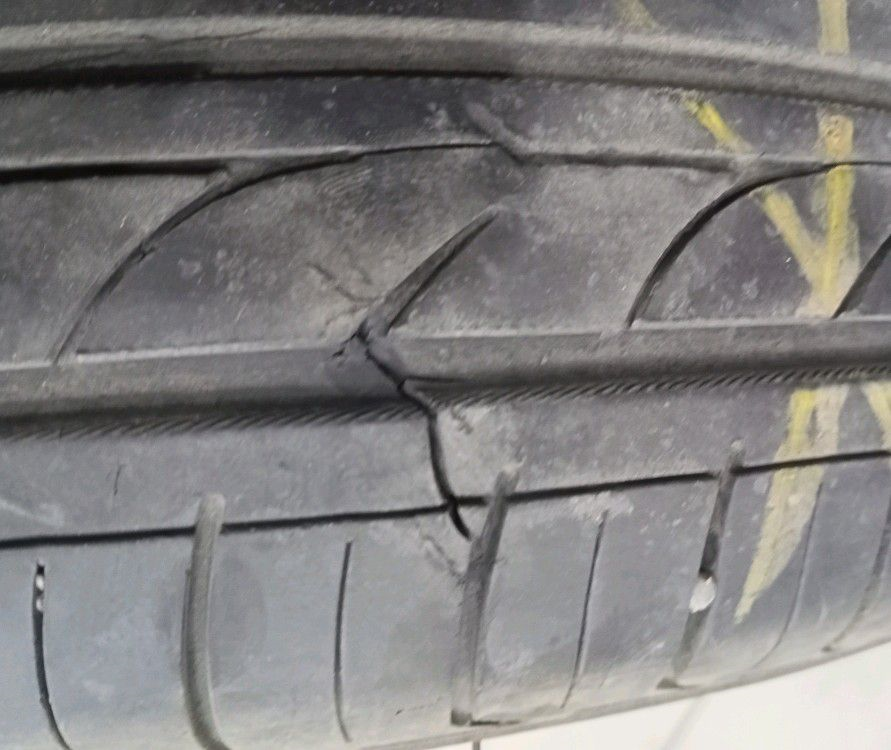tr: (354, 323, 481, 542)
